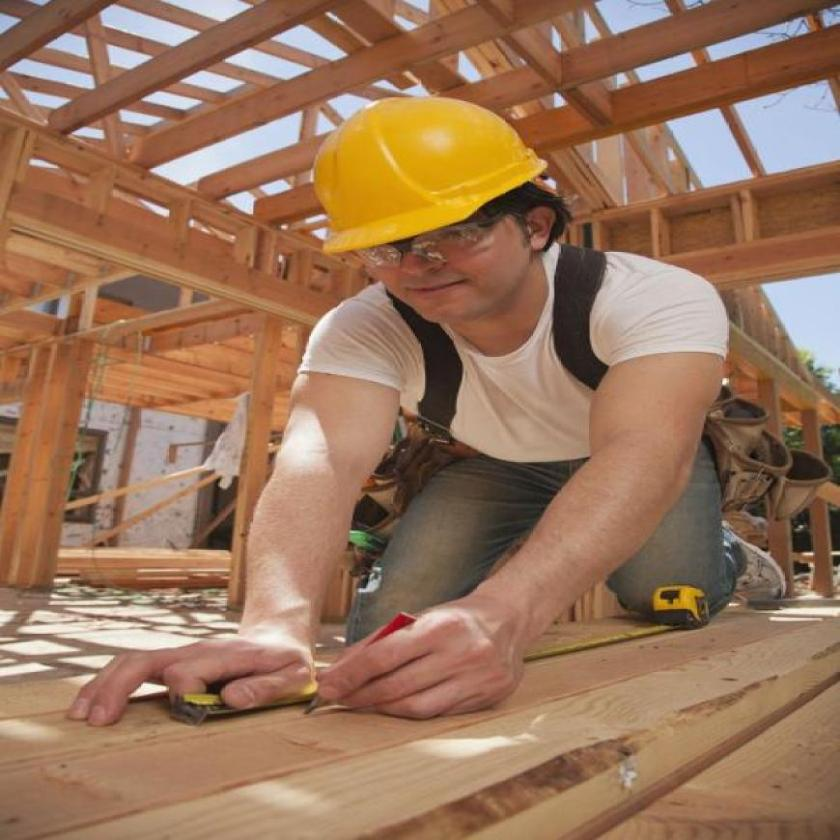Con_casco: (296, 60, 573, 340)
